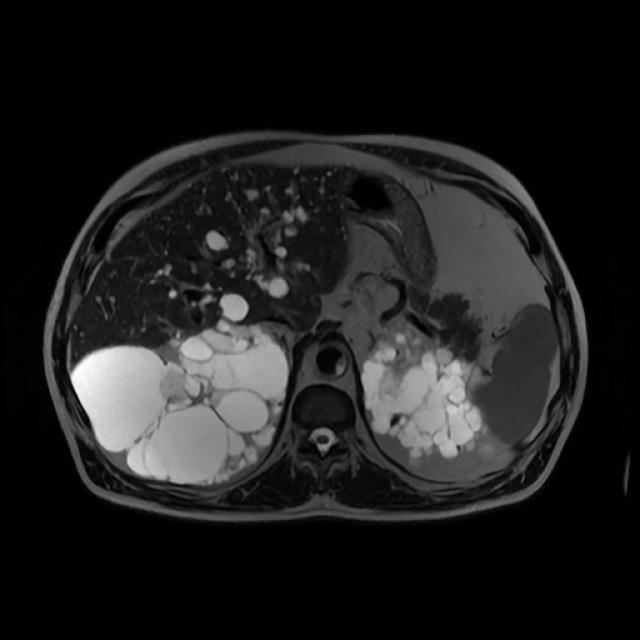sag: (74, 323, 287, 487)
sol: (363, 333, 480, 461)
